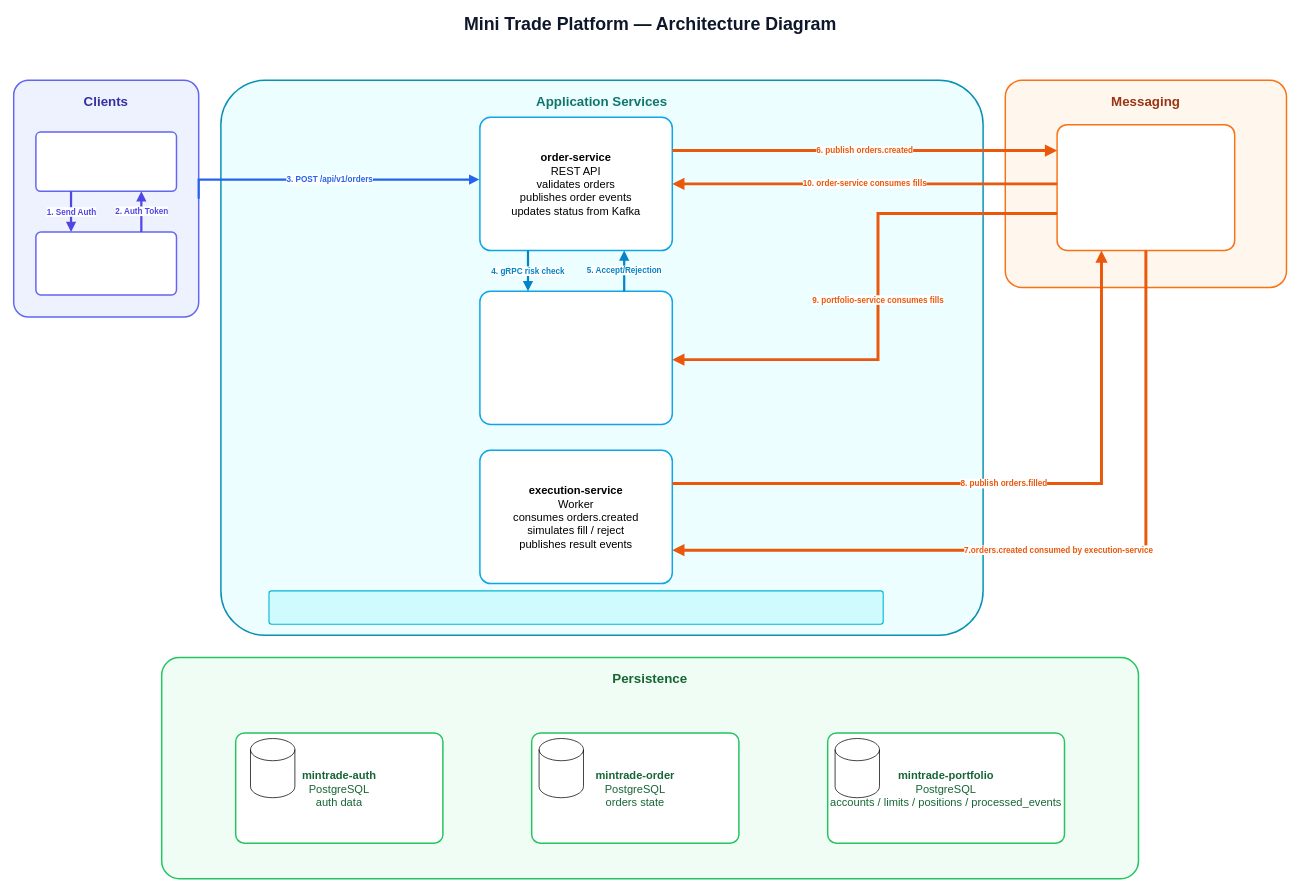
Image size: 1299x892. Some labels were removed from this diagram. The shapes that lost their labels are listed below. From the top down, each one's centre as x and y in pixels, then its label:
At (x=106, y=161): "Trader / API Client REST calls".
At (x=1145, y=187): "Apache Kafka broker orders.created orders.filled orders.rejected".
At (x=106, y=263): "Authorisation JWT issue/auth".
At (x=576, y=357): "portfolio-service HTTP + gRPC risk checks owns positions / limits".
At (x=575, y=607): "Shared code modules: commons • infra • bdd test module".
